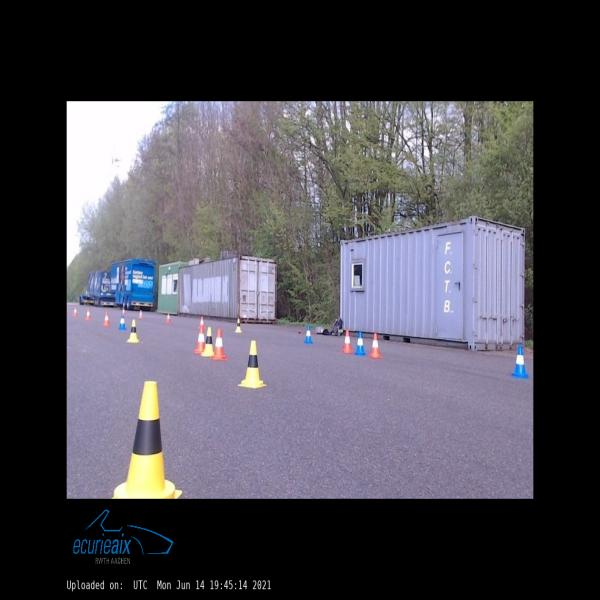blue_cone: (512, 346, 528, 378), (355, 332, 366, 355), (304, 326, 313, 344), (119, 315, 126, 330)
orange_cone: (212, 329, 227, 360), (368, 333, 383, 358), (194, 326, 204, 354), (342, 330, 353, 353), (104, 312, 110, 326), (199, 316, 205, 328), (86, 308, 91, 320), (167, 313, 172, 323), (73, 307, 78, 315), (139, 310, 143, 317), (122, 308, 126, 314)
yellow_cone: (111, 381, 182, 498), (238, 341, 266, 388), (202, 327, 214, 356), (127, 320, 139, 342), (235, 319, 242, 332)
